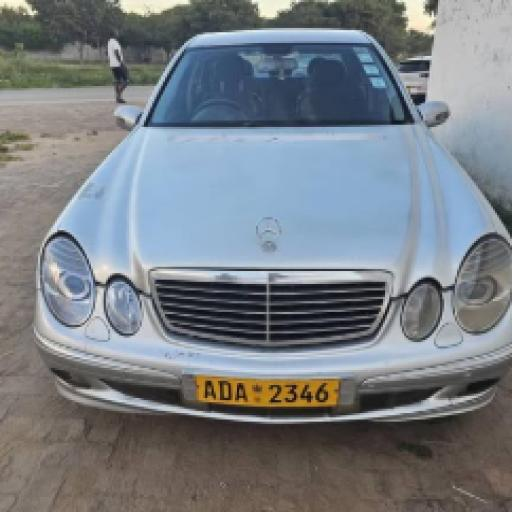number-plates: (192, 374, 340, 406)
